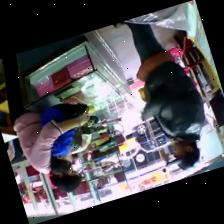person: (113, 21, 204, 169), (1, 54, 88, 192), (50, 127, 75, 171)
